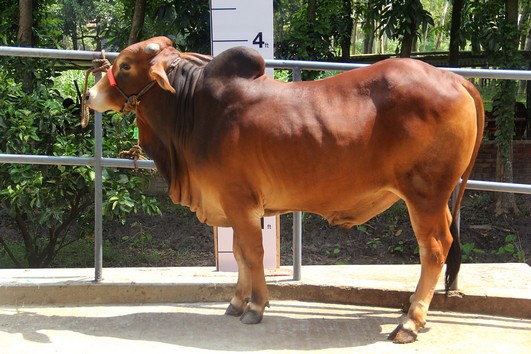cow: (77, 28, 485, 346)
